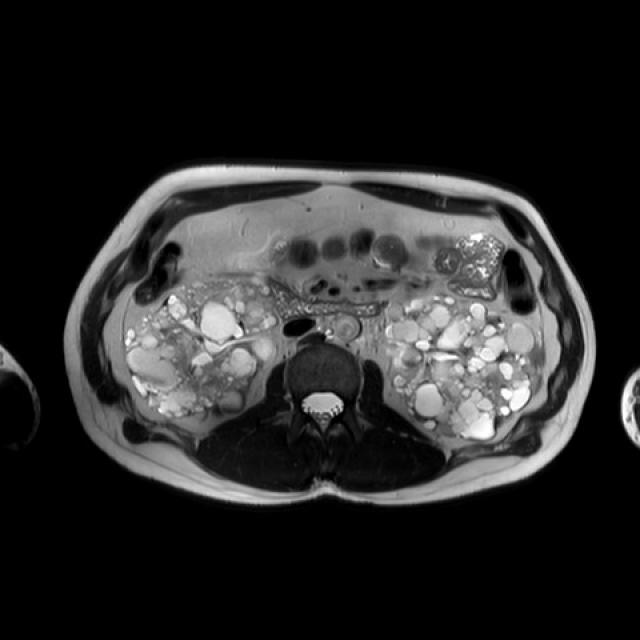sag: (121, 277, 279, 421)
sol: (384, 292, 545, 441)
